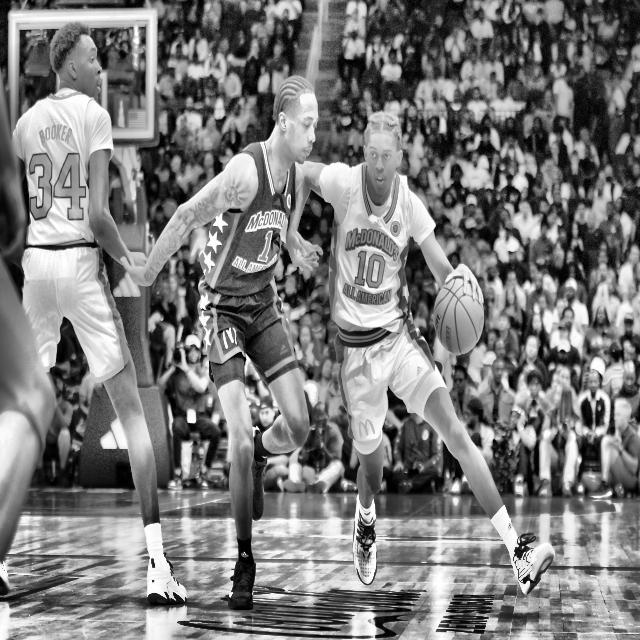Basketball: (434, 277, 485, 354)
